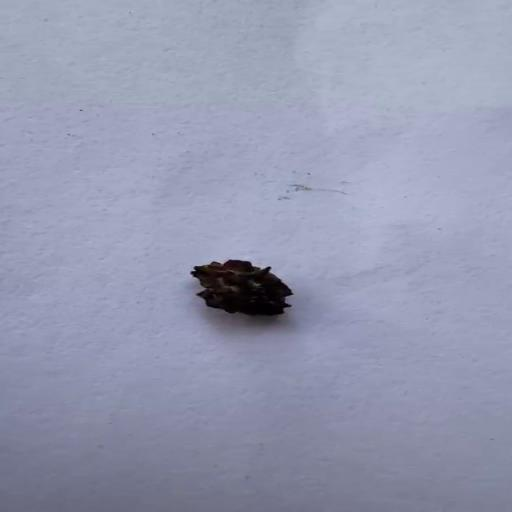papaya_seed: (188, 258, 295, 316)
